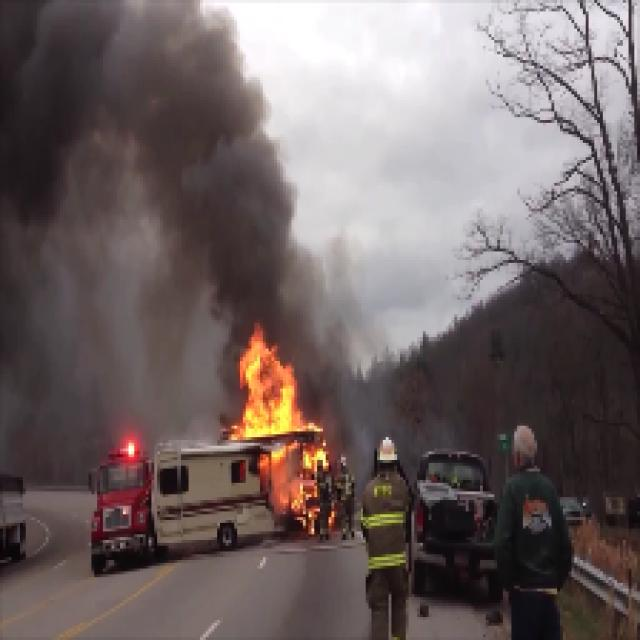fire: (238, 331, 330, 525)
smoke: (4, 2, 190, 457), (196, 19, 278, 314)
